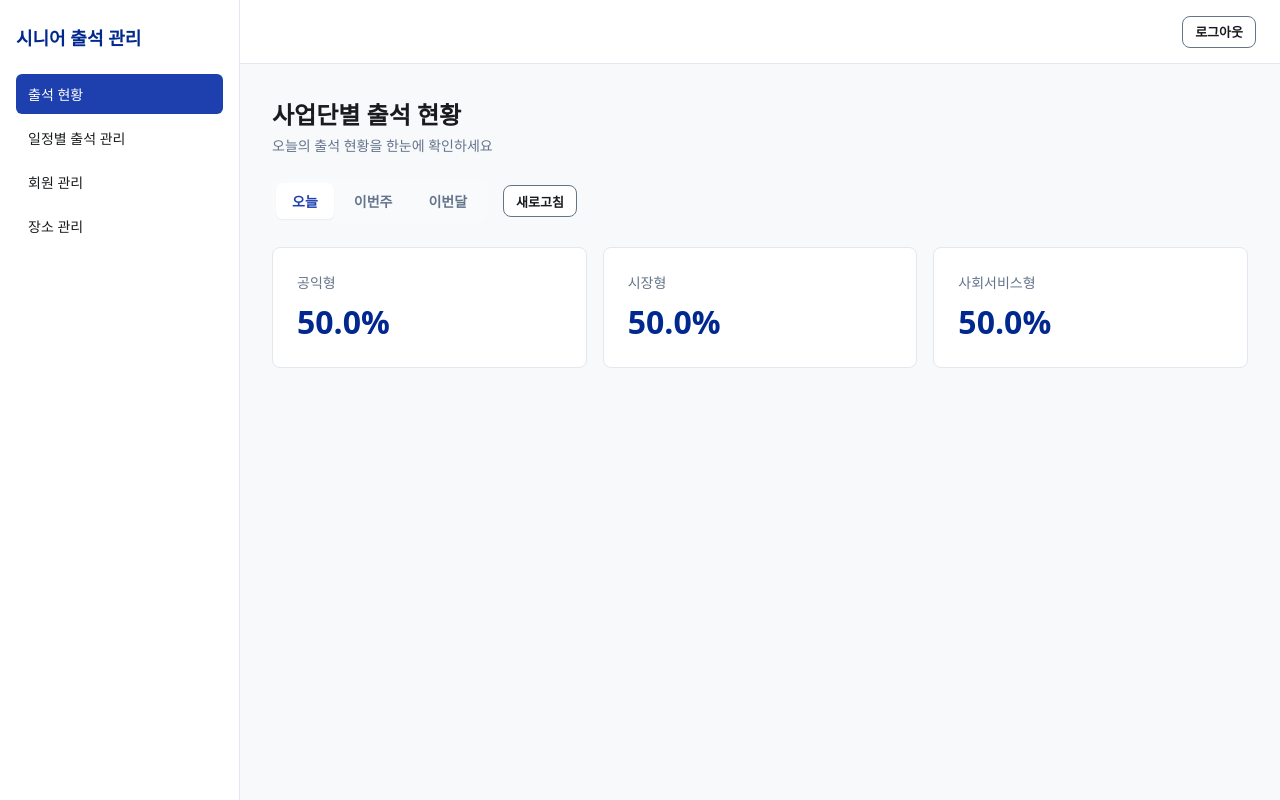
Scenario: LobbyPage › 기간 탭을 바꾸면 해당 period로 다시 조회한다
Click the tab "이번주". click: (373, 201)
box: x1=338 y1=183 x2=408 y2=219
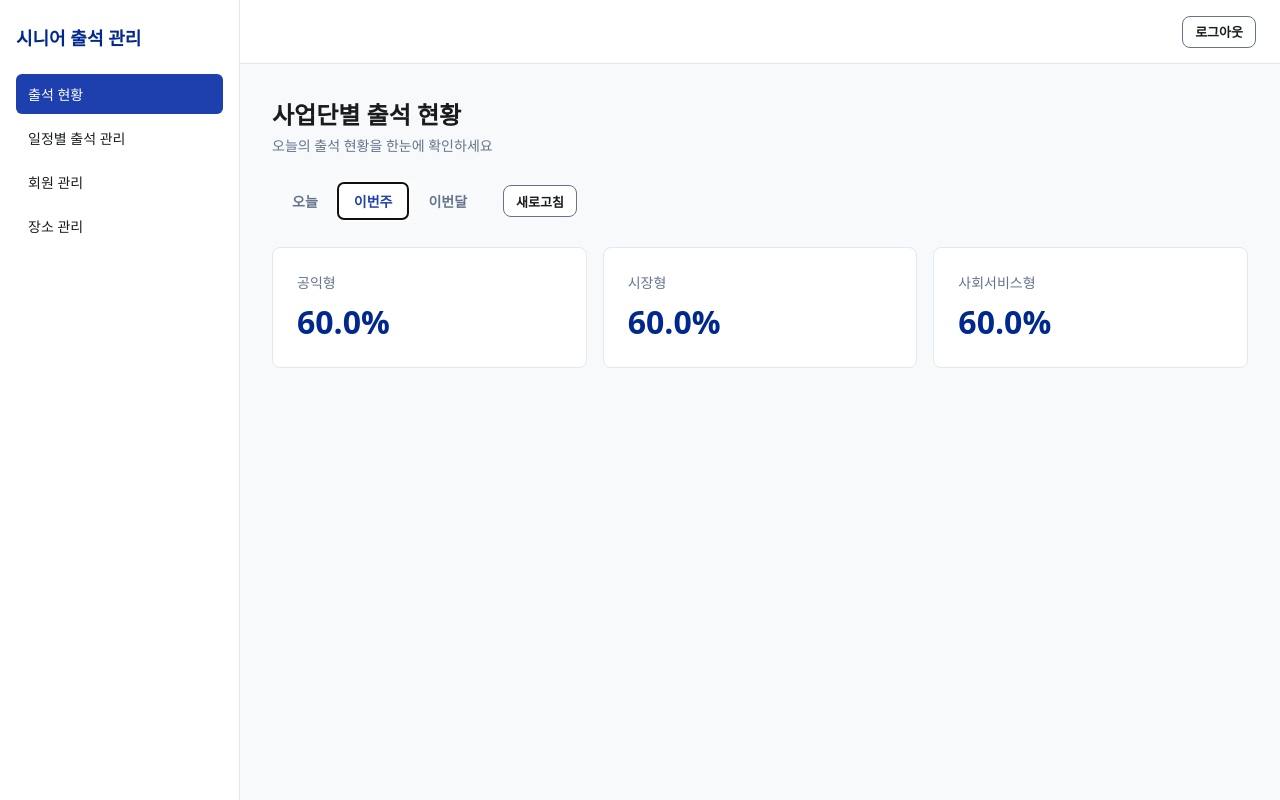
Expected: the text "60.0%" is shown 3 times, x1=297 y1=300 x2=390 y2=343; x1=628 y1=300 x2=721 y2=343; x1=958 y1=300 x2=1051 y2=343
Now the text "50.0%" is gone
